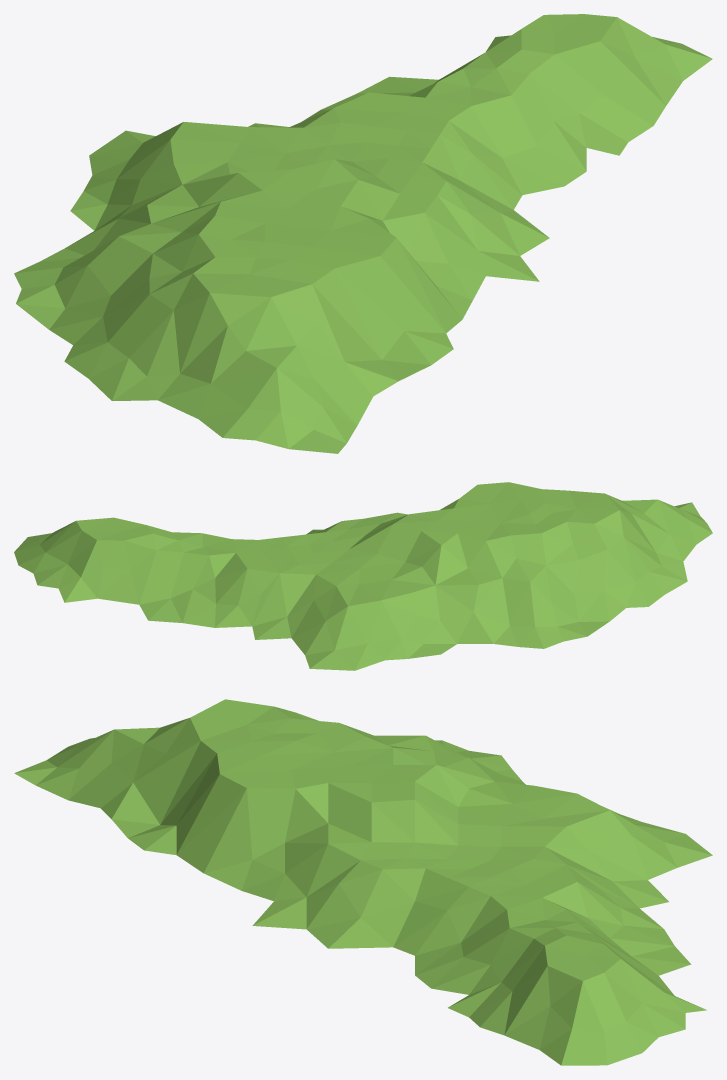
Rendered from MT_Mountain_L_b_06.fbx.
3 views of the same model, one above another, from view 1: azimuth 30°, elevation 25°; view 2: azimuth 150°, elevation 25°; view 3: azimuth 270°, elevation 25° (orthographic). The views are drawn at different scales.
Visible parts, largest first — view 1: MT_Mountain_L_b_06; view 2: MT_Mountain_L_b_06; view 3: MT_Mountain_L_b_06.
Part boxes in pixels (x1,y1,x2,y2): MT_Mountain_L_b_06: [14, 14, 712, 453]; MT_Mountain_L_b_06: [14, 482, 712, 670]; MT_Mountain_L_b_06: [14, 699, 712, 1065].
Size of the model in its own units: 5898 by 603 by 5040.
